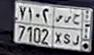0: (34, 11, 41, 45)
1: (26, 7, 33, 43)
2: (42, 8, 49, 46)
7: (18, 5, 25, 43)
J: (72, 13, 81, 47)
S: (64, 14, 70, 46)
X: (55, 13, 63, 47)
